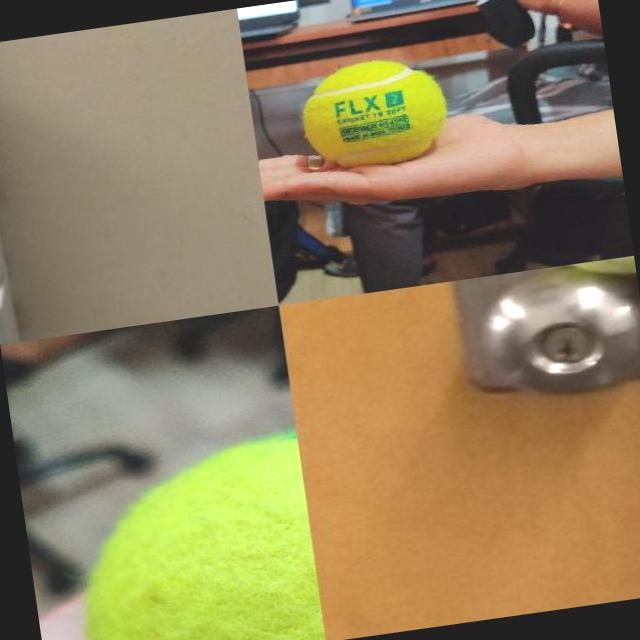Tennis Ball: (65, 431, 324, 640), (296, 52, 451, 171)
